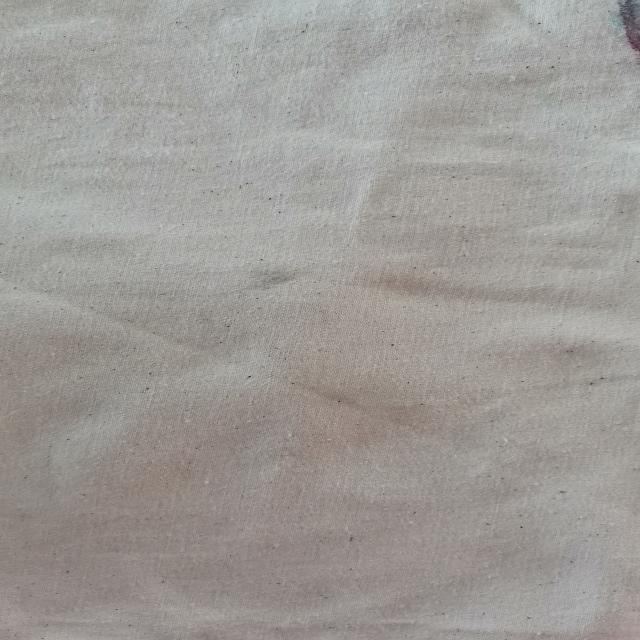taaaches: (253, 251, 325, 299), (605, 2, 640, 52)
